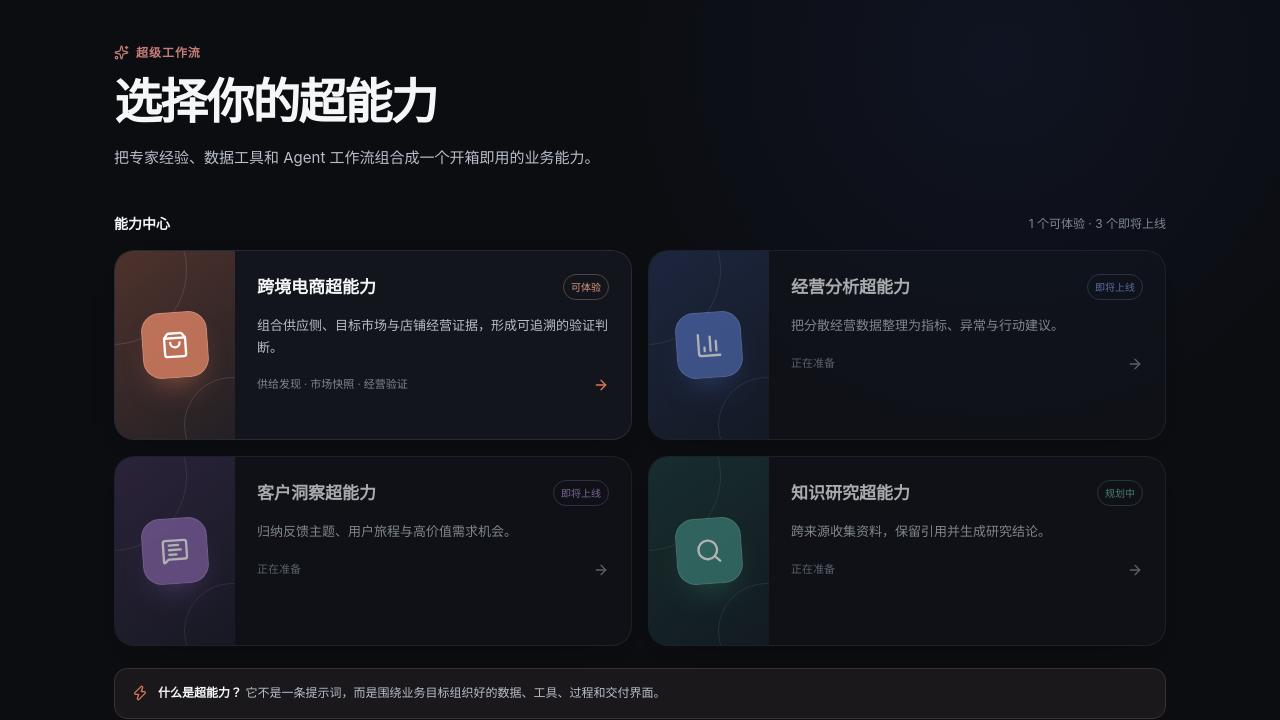
Test case: SuperpowerWorkspace › keeps the catalog as the first level and opens the ecommerce workspace
The image size is (1280, 720).
Expected: the heading "选择你的超能力" is shown, [114,72,437,131]
Expected: the button with aria-label "经营分析超能力，即将上线" is disabled, [648,250,1166,440]
Click the button with aria-label "打开跨境电商超能力": [175, 345] box [114,250,632,440]
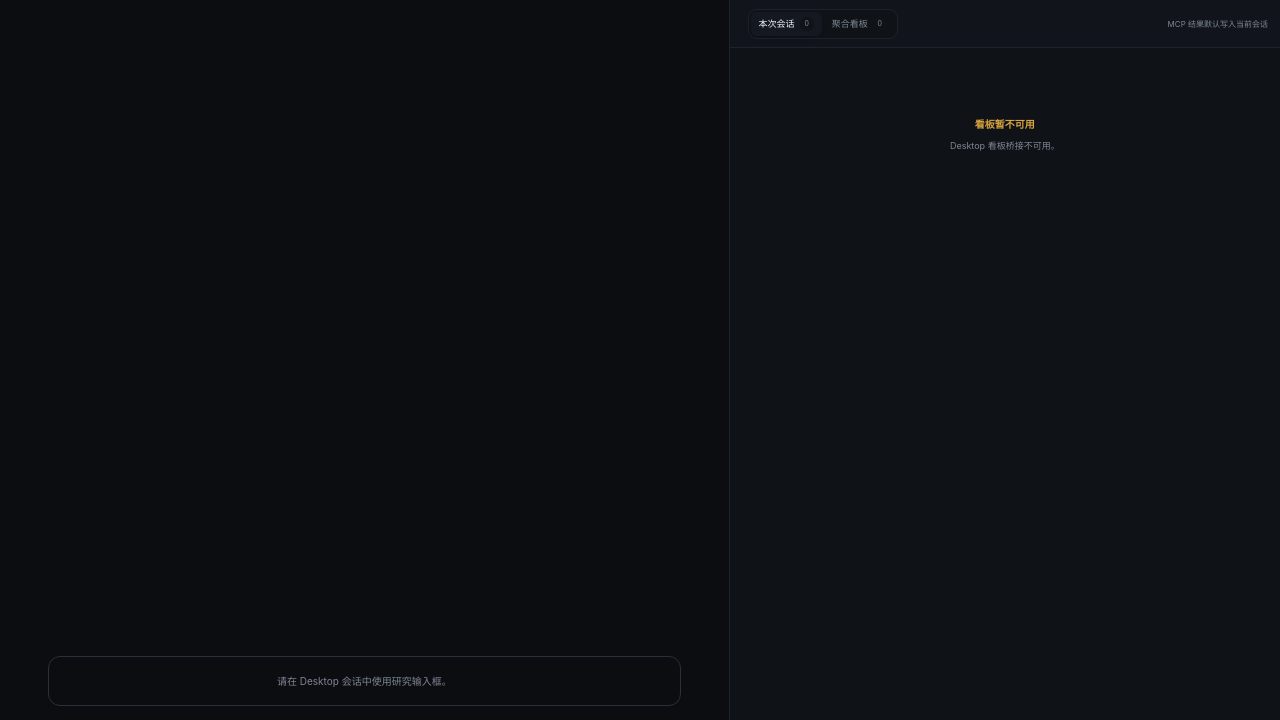
Now the element named "跨境电商超能力工作台" is shown
